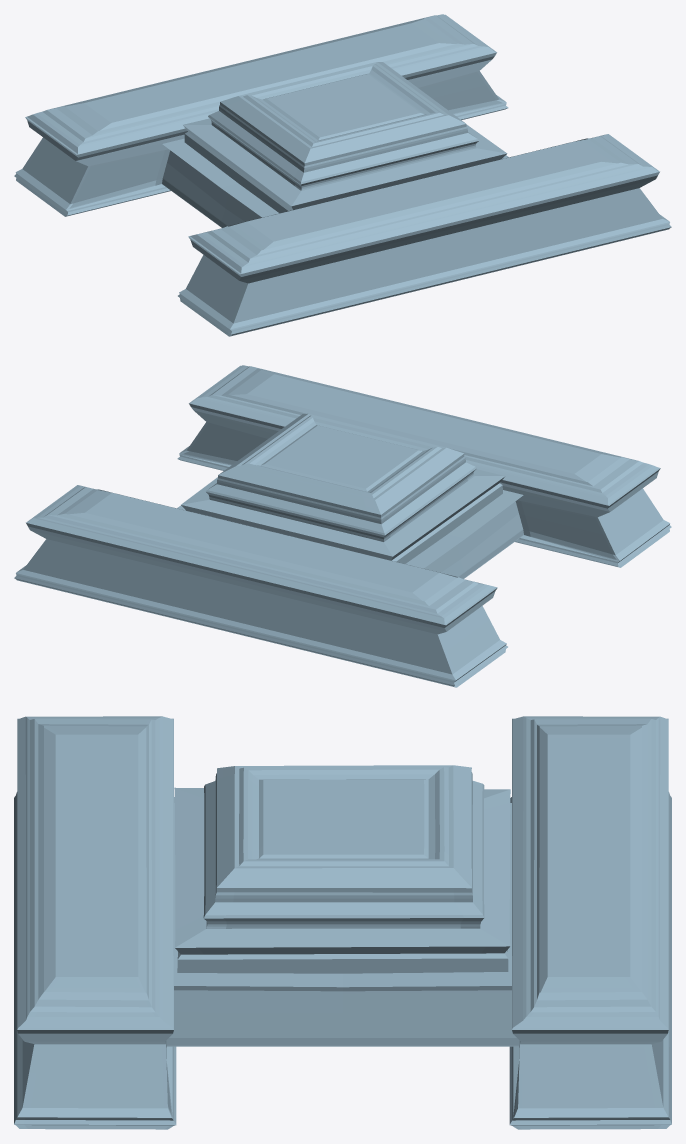
The model's file is cañonBase.fbx.
The picture shows the model from 3 angles, top to bottom: view 1: azimuth 30°, elevation 25°; view 2: azimuth 150°, elevation 25°; view 3: azimuth 270°, elevation 25°; orthographic projection. The views are drawn at different scales.
Visible parts, largest first — view 1: Cube.002; view 2: Cube.002; view 3: Cube.002.
Boxes of the visible parts, x1,y1,x2,y2 form: Cube.002: [14, 14, 671, 336]; Cube.002: [14, 365, 671, 687]; Cube.002: [14, 716, 671, 1129].
Size of the model in its own units: 477 by 106 by 406.
